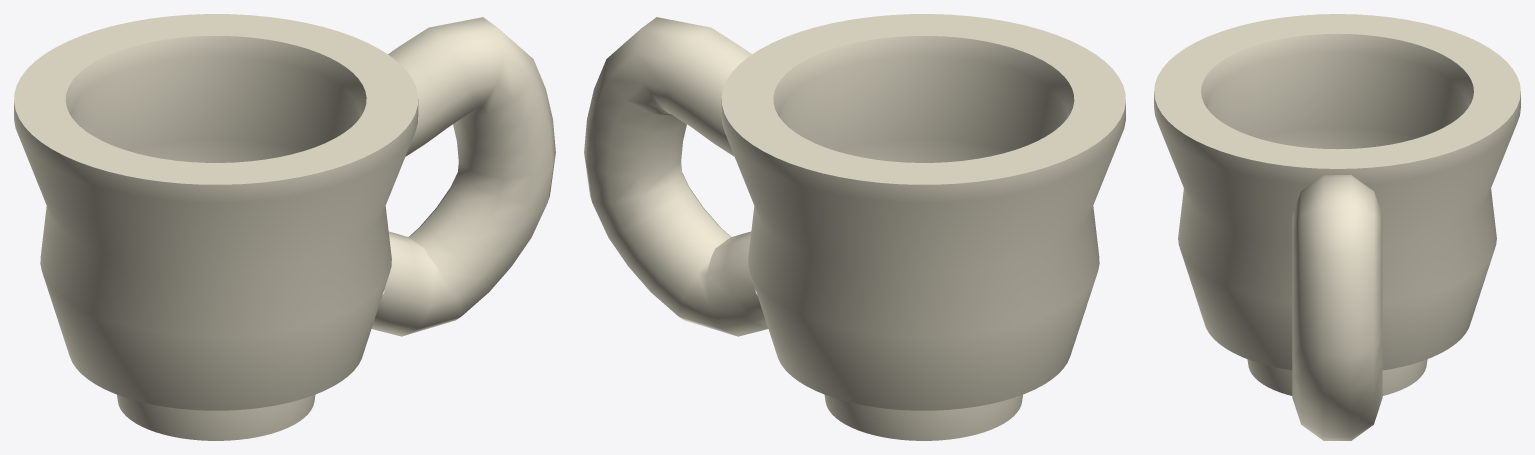
The model's file is ceramics-pottery-studio-handled-mug-39c99d92__29514.glb.
The picture shows the model from 3 angles, left to right: view 1: azimuth 30°, elevation 25°; view 2: azimuth 150°, elevation 25°; view 3: azimuth 270°, elevation 25°; orthographic projection. The views are drawn at different scales.
Visible parts, largest first — view 1: handled-mug; view 2: handled-mug; view 3: handled-mug.
Part boxes in pixels (bbox=[...]): handled-mug: bbox=[14, 14, 555, 440]; handled-mug: bbox=[584, 14, 1125, 440]; handled-mug: bbox=[1154, 14, 1520, 440].
Size of the model in its own units: 0.2831 by 0.1667 by 0.1955.
